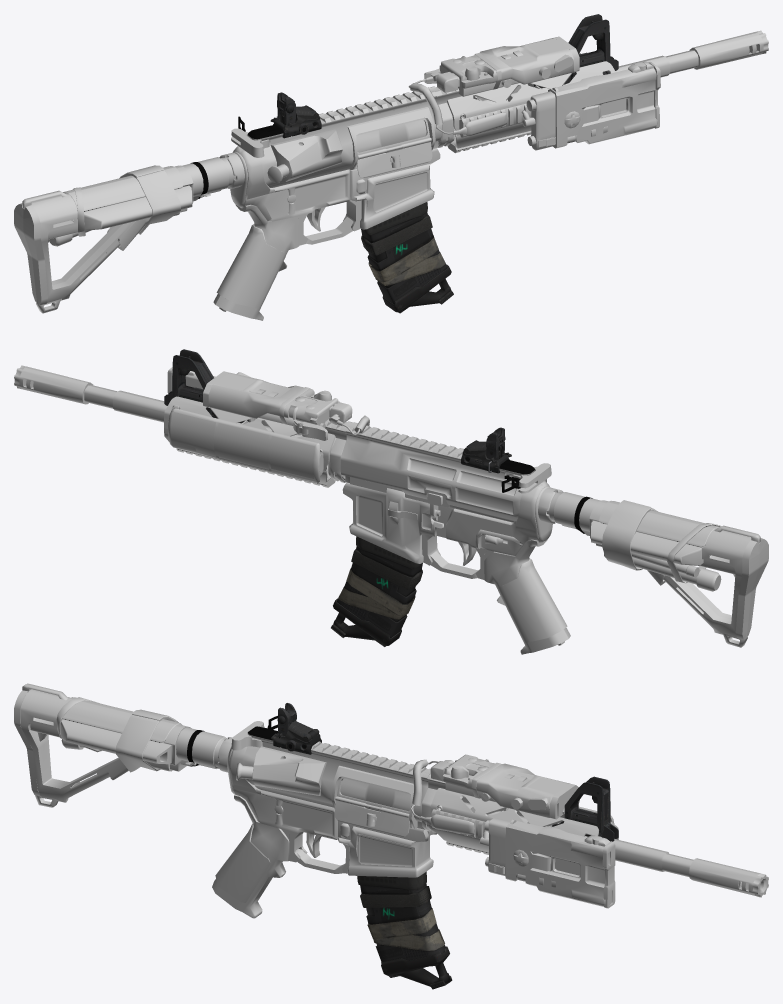
3 renders of one model, top to bottom at view 1: azimuth 30°, elevation 25°; view 2: azimuth 150°, elevation 25°; view 3: azimuth 330°, elevation 25°, orthographic.
Parts seen in each view (by area): view 1: weapon_kb_m4_wm_camo_LOD0_0; view 2: weapon_kb_m4_wm_camo_LOD0_0; view 3: weapon_kb_m4_wm_camo_LOD0_0.
Part boxes in pixels (<box>): weapon_kb_m4_wm_camo_LOD0_0: <box>14,14,768,320</box>; weapon_kb_m4_wm_camo_LOD0_0: <box>14,349,768,654</box>; weapon_kb_m4_wm_camo_LOD0_0: <box>14,683,768,989</box>.
Size of the model in its own units: 20.81 by 6.55 by 2.35.
